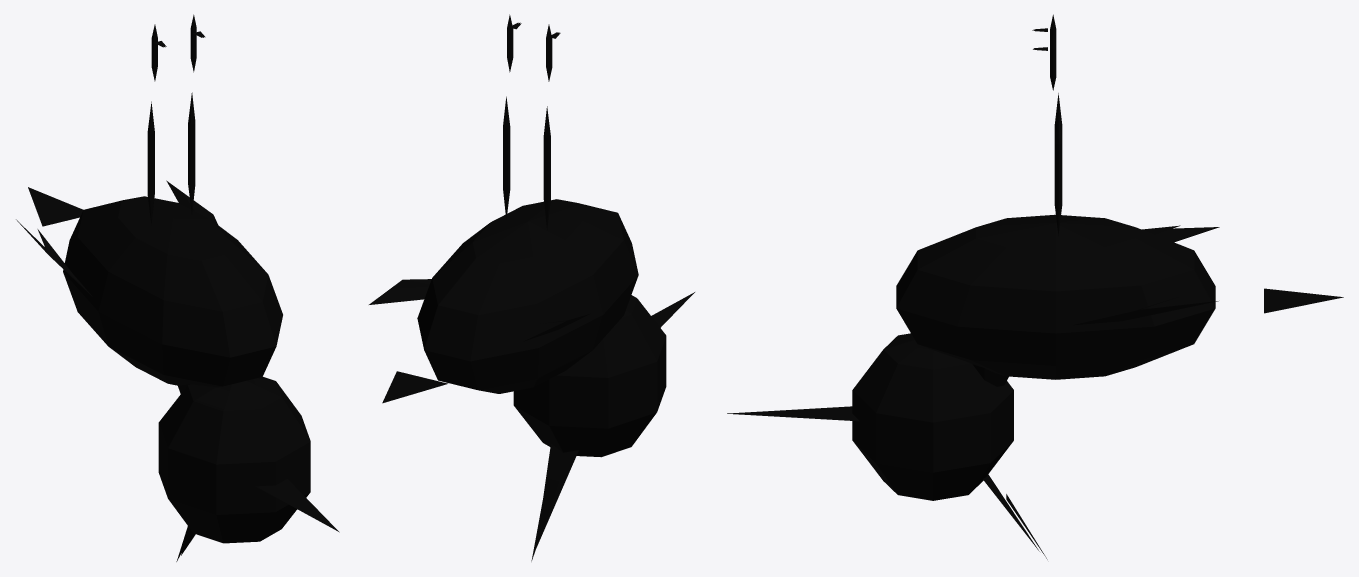
Rendered from standing.glb.
The picture shows the model from 3 angles, left to right: view 1: azimuth 30°, elevation 25°; view 2: azimuth 150°, elevation 25°; view 3: azimuth 270°, elevation 25°; orthographic projection.
Parts seen in each view (by area): view 1: BirdBody; view 2: BirdBody; view 3: BirdBody.
Part boxes in pixels (x1,y1,x2,y2): BirdBody: [16, 14, 339, 561]; BirdBody: [369, 14, 694, 561]; BirdBody: [727, 14, 1343, 559].
Size of the model in its own units: 0.1694 by 0.5319 by 0.5543.
1 material, 1 textured.
